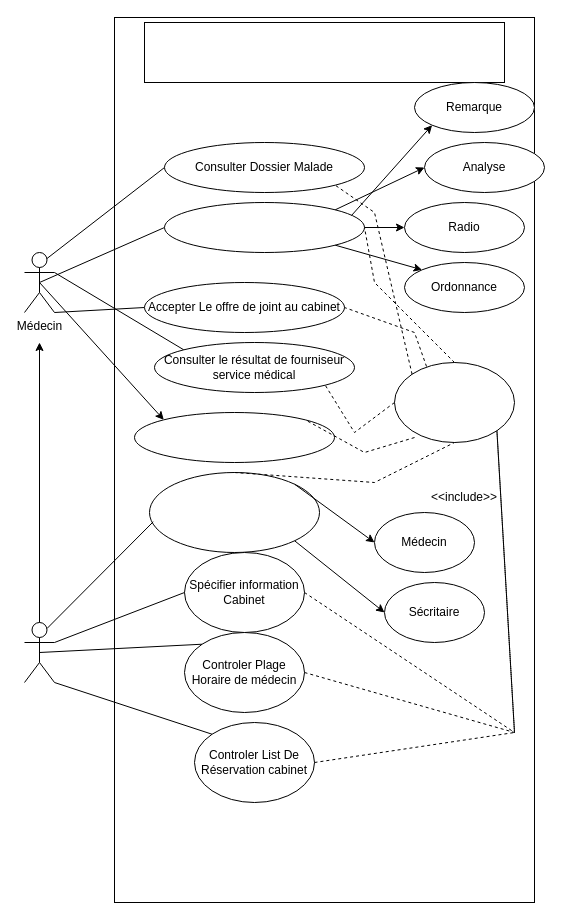
Some shapes in this 562 by 920 pixel diagram are drawn without their labels. Each missing label, with the centre of its shape:
Admin: [39,652]
Ajouté Employer: [234,512]
Authentification: [454,402]
Consulter List Attente de patient: [234,437]
Use Case <<Médecin>>: [324,52]
établire Ordre: [264,227]
